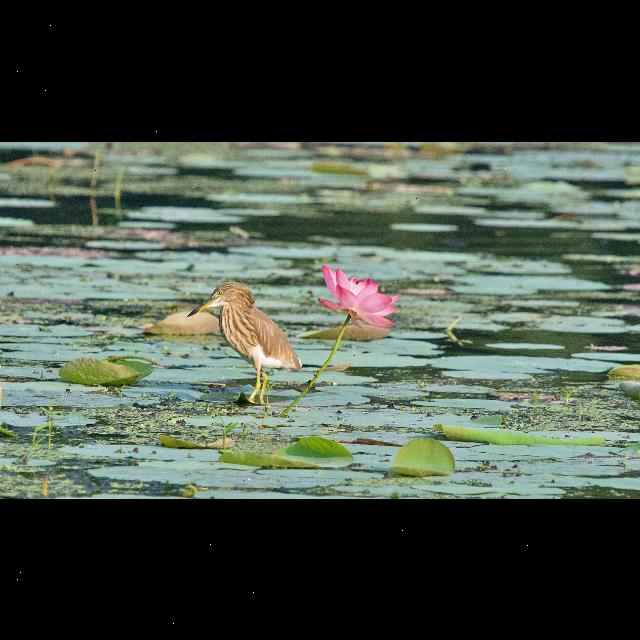heron: (188, 281, 300, 399)
